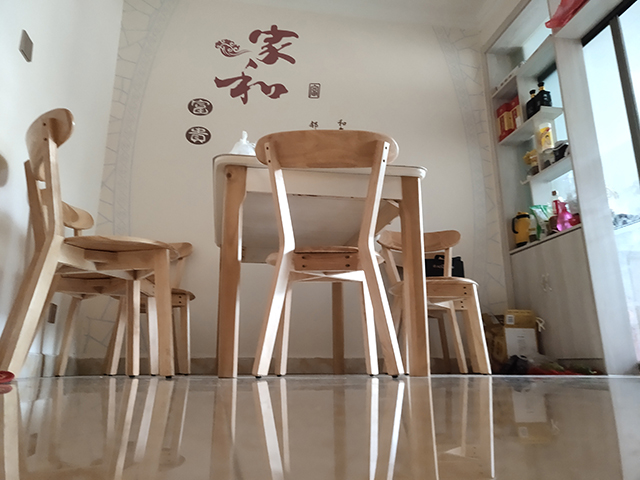cabinet: (510, 225, 640, 376)
stool: (1, 107, 198, 380), (248, 127, 407, 381), (374, 228, 495, 377)
table: (211, 152, 432, 380)
